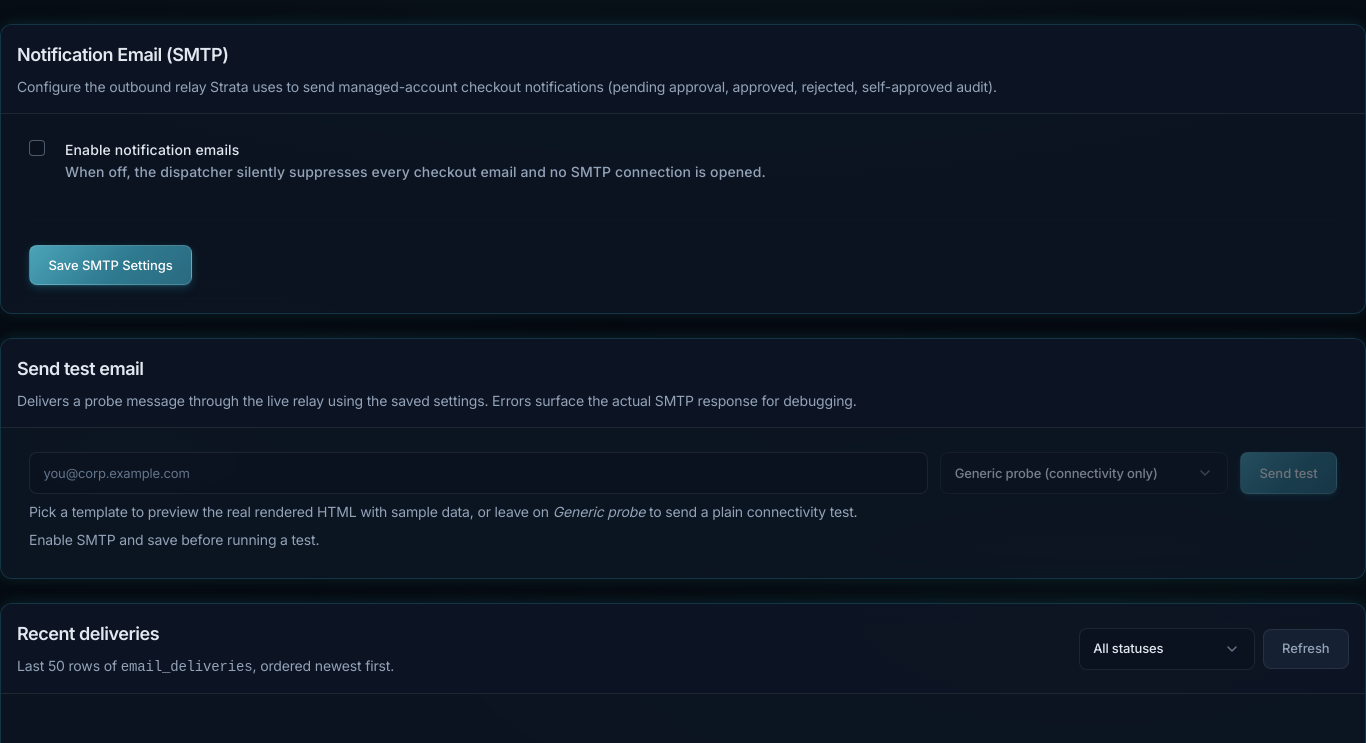
Scenario: NotificationsTab › surfaces a validation warning and disables Save when host/from are empty with SMTP enabled
Click the checkbox labelled "Enable notification emails" at point(397, 161), box left=29, top=140, right=766, bottom=182
(page scrolled)
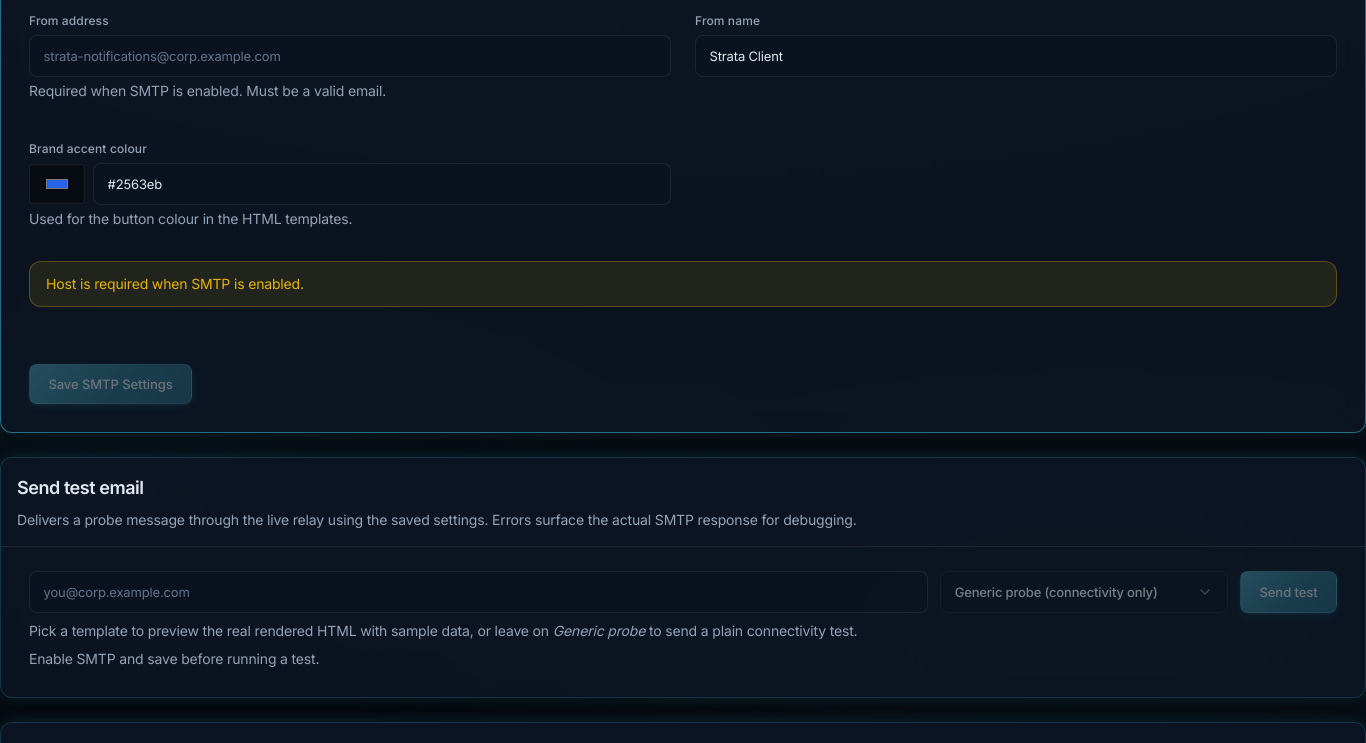
Now the text "Host is required when SMTP is enabled." is shown, box left=46, top=275, right=304, bottom=292
Now the button "Save SMTP Settings" is disabled, box left=29, top=364, right=192, bottom=404
